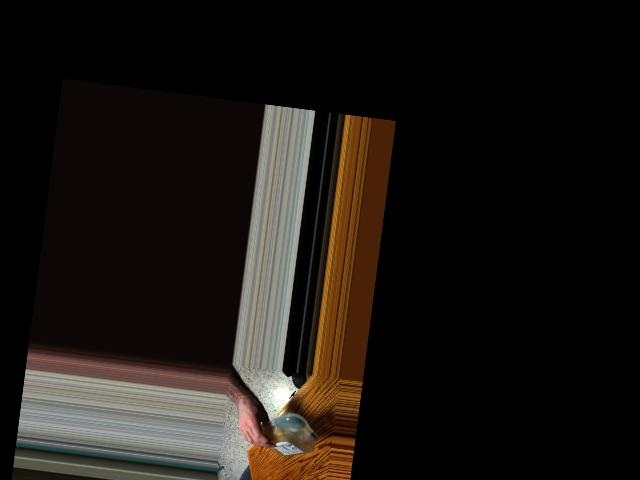cheese: (248, 413, 316, 457)
